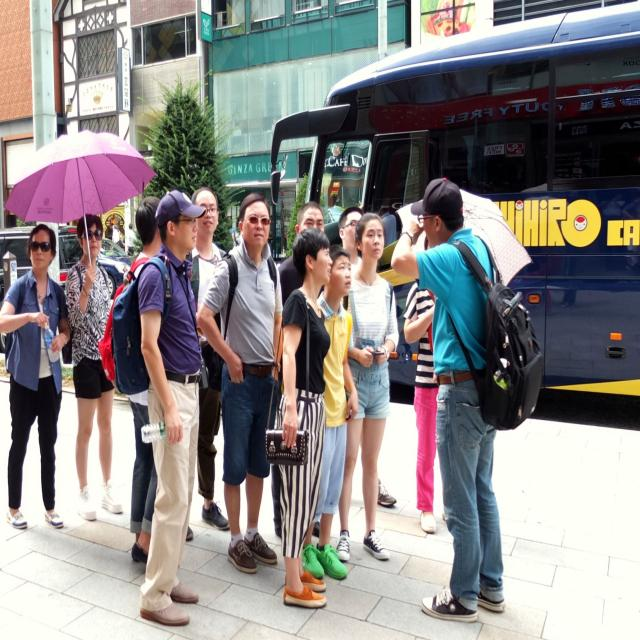body: (389, 174, 547, 628), (191, 191, 285, 577), (131, 188, 209, 628), (262, 225, 335, 612), (334, 210, 400, 563), (0, 221, 72, 532), (302, 243, 359, 582), (63, 214, 123, 520), (338, 206, 398, 508), (186, 186, 236, 544), (124, 194, 164, 566), (403, 235, 440, 537), (277, 200, 326, 310), (326, 192, 345, 228), (126, 223, 137, 256), (112, 224, 120, 262), (117, 227, 126, 252)
